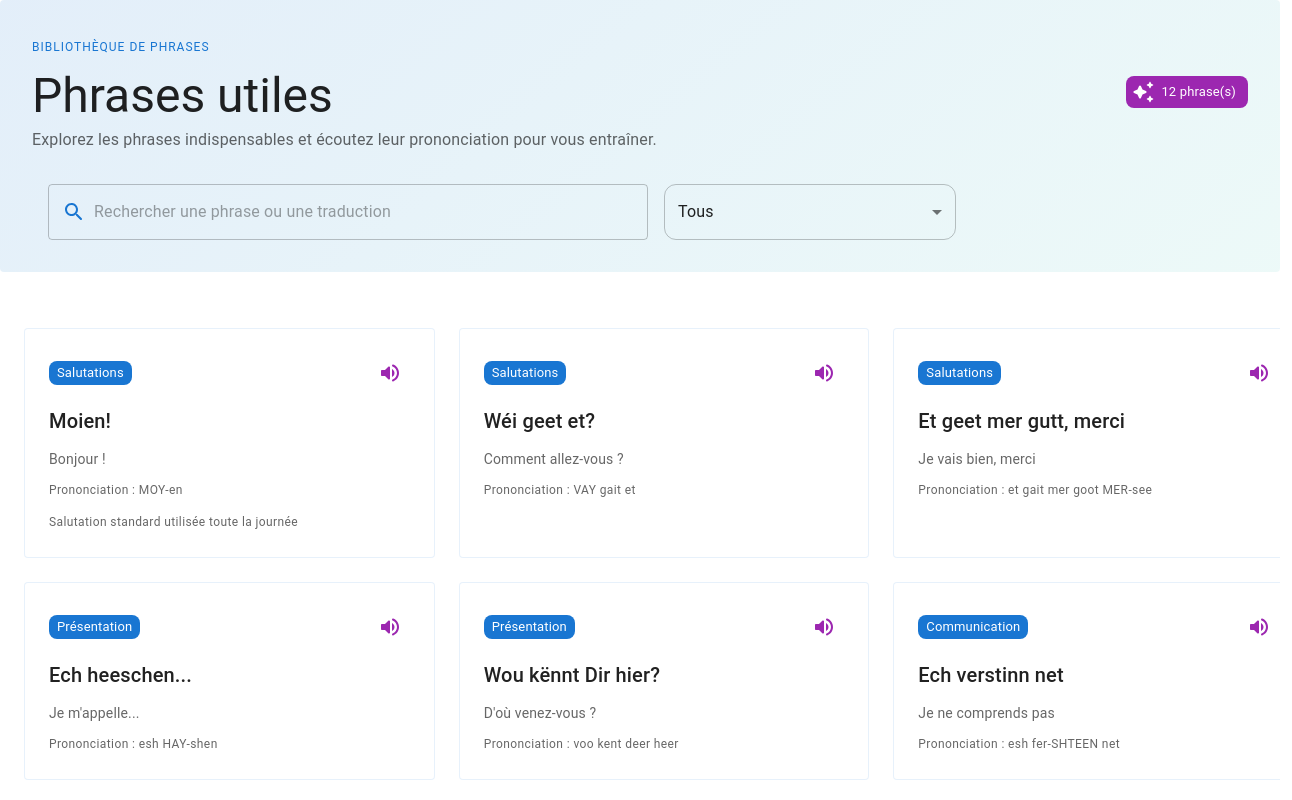
Test: PhraseList › filters phrases by category using the select menu
Click the dropdown: point(696, 212) [678, 202, 714, 221]
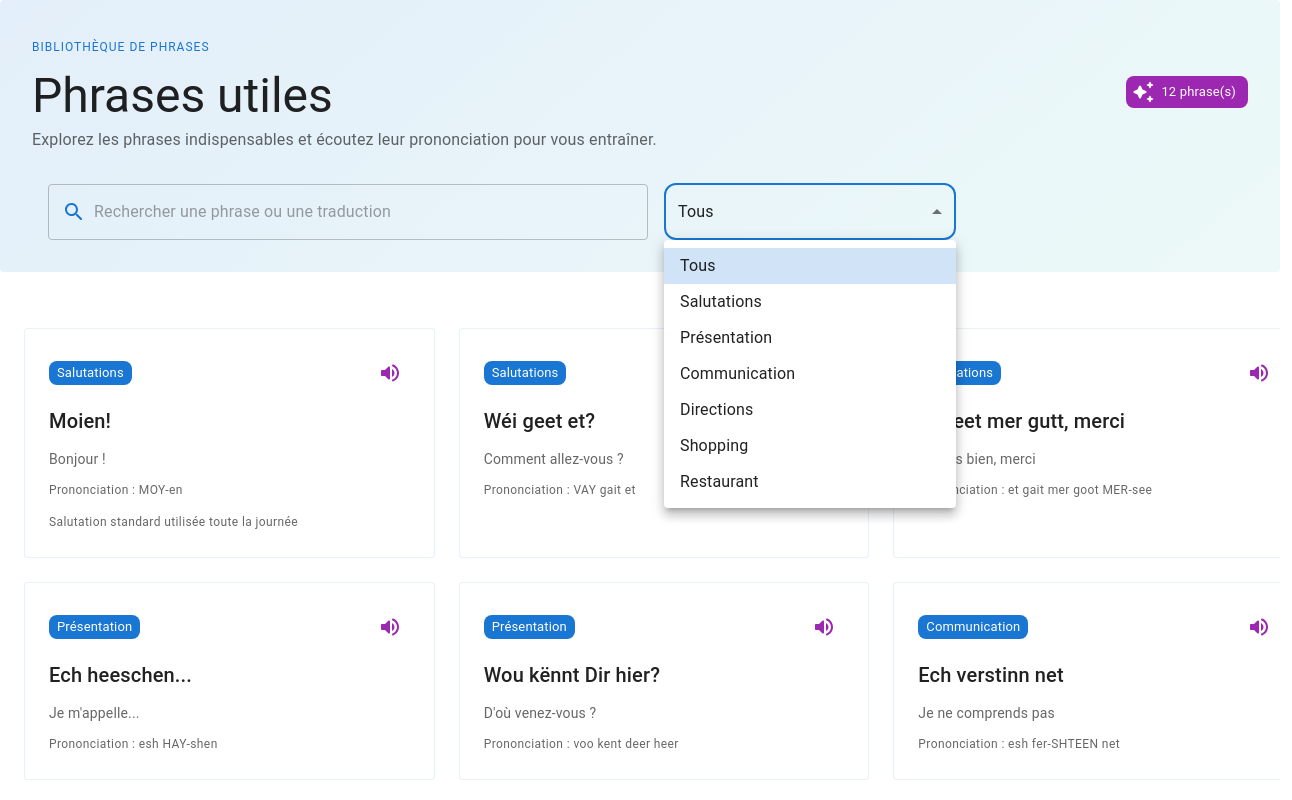
Click the option "Restaurant": point(719, 482) [680, 472, 759, 491]
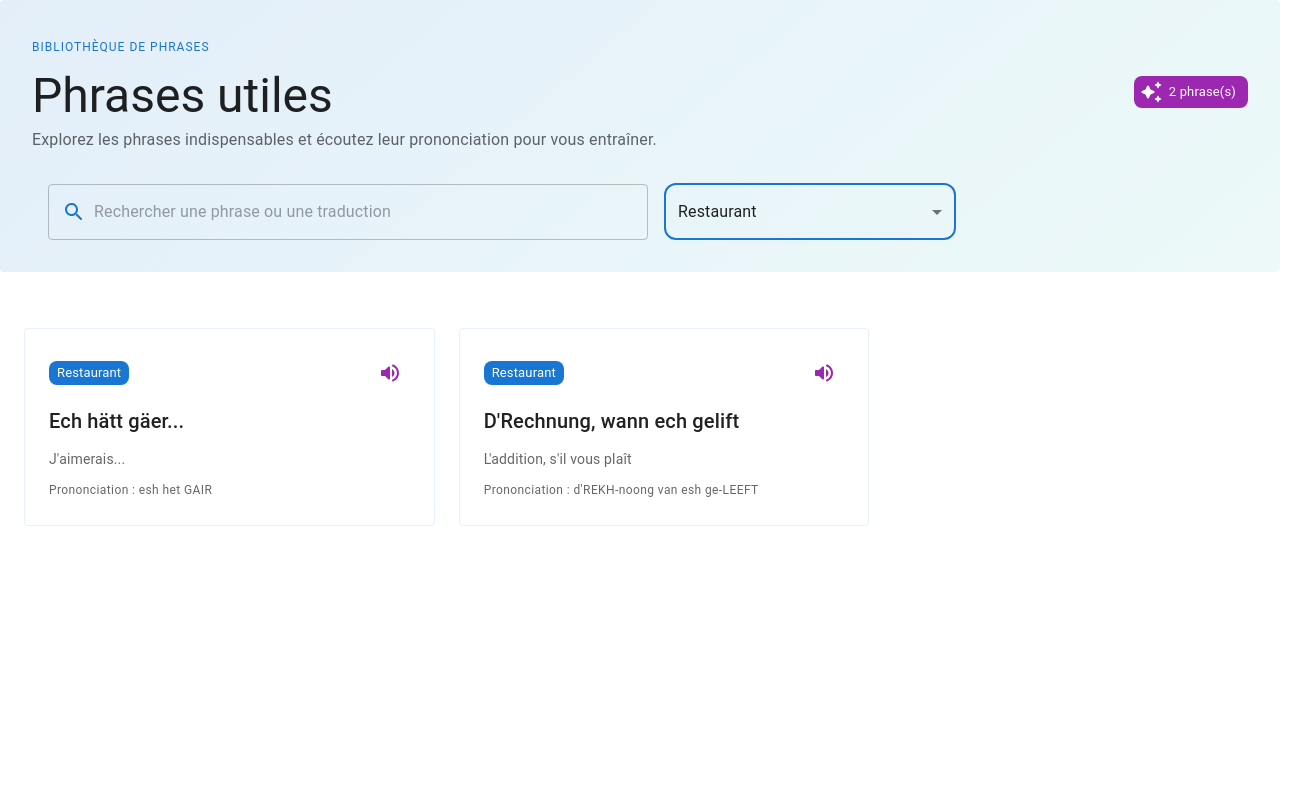
Expected: the heading "Ech hätt gäer..." is shown, [49, 409, 184, 433]
Now the heading "Moien!" is gone
